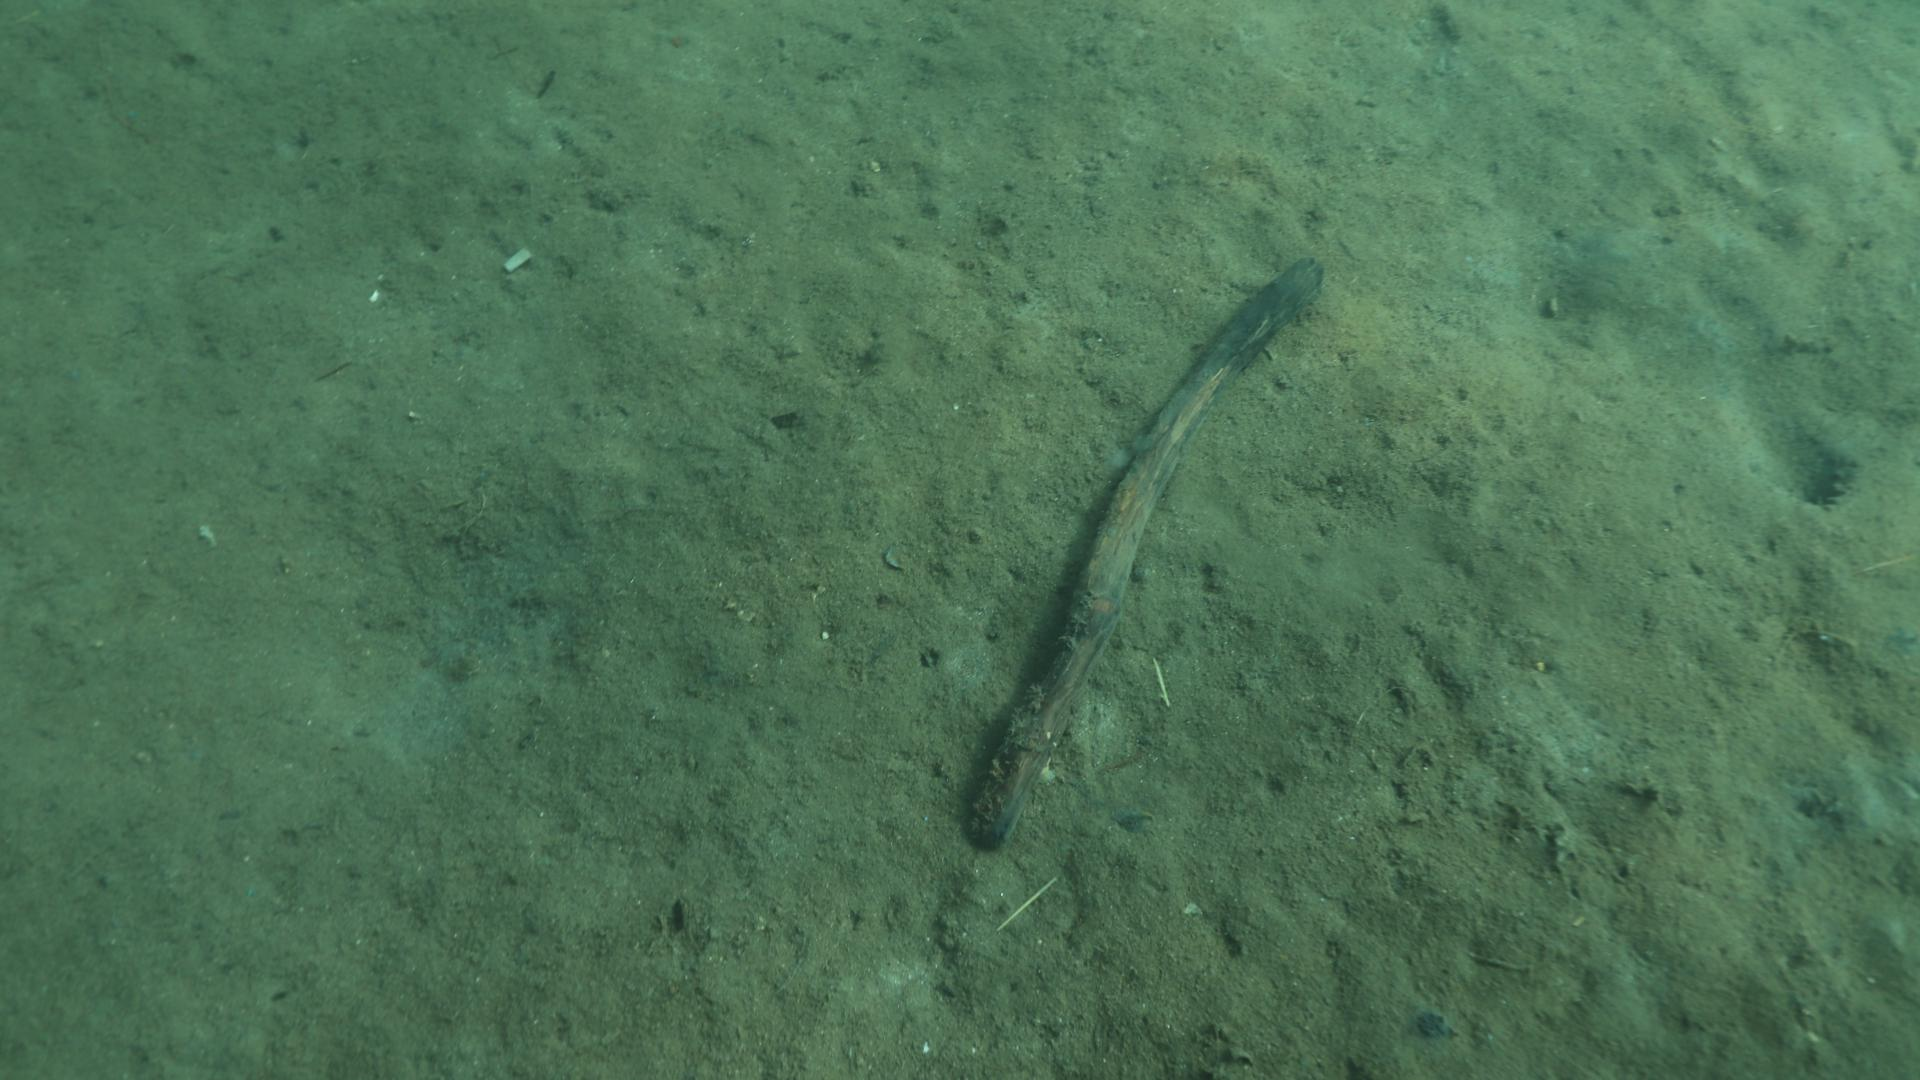wood: (957, 258, 1324, 848)
